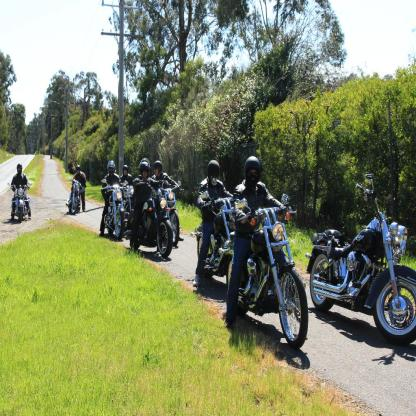Helmet: (242, 158, 271, 196), (207, 160, 221, 188), (138, 156, 151, 184), (152, 159, 163, 181), (105, 160, 117, 177), (74, 163, 82, 177), (17, 162, 22, 178), (123, 164, 129, 177)
